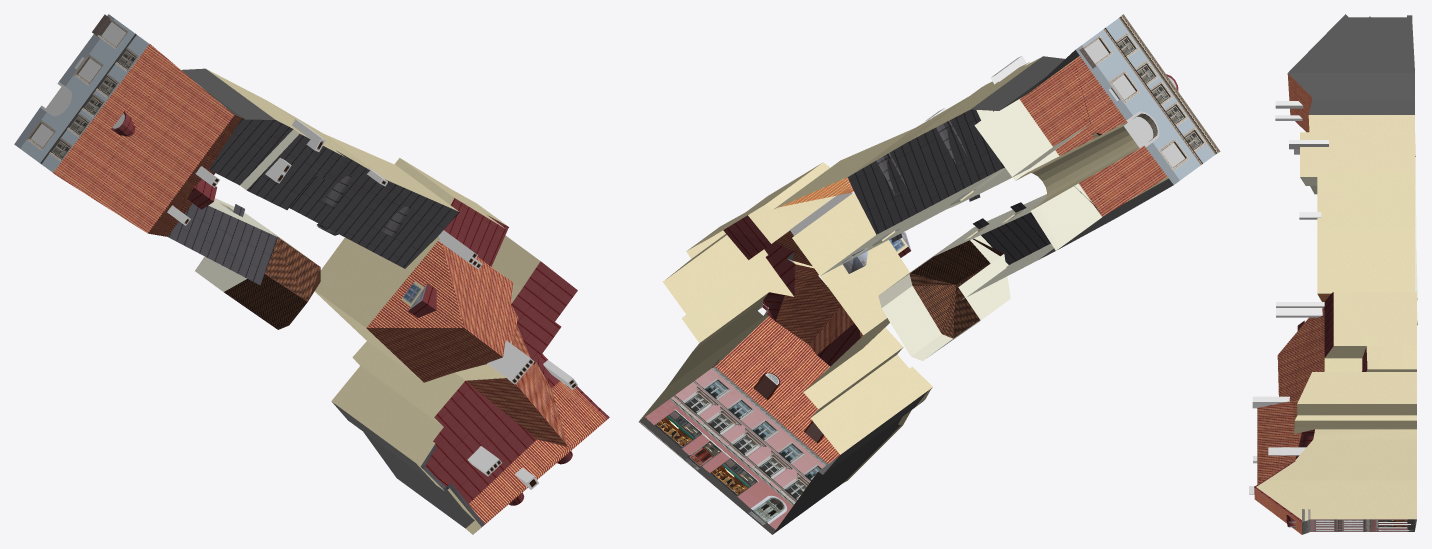
Rendered from Pikk_11_Lai_10.obj.
3 views of the same model, side by side, from view 1: azimuth 30°, elevation 25°; view 2: azimuth 150°, elevation 25°; view 3: azimuth 270°, elevation 25° (orthographic). The views are drawn at different scales.
Parts seen in each view (by area): view 1: Pikk_11_Lai_10; view 2: Pikk_11_Lai_10; view 3: Pikk_11_Lai_10.
Boxes of the visible parts, bbox=[...] form: Pikk_11_Lai_10: bbox=[14, 14, 609, 534]; Pikk_11_Lai_10: bbox=[638, 14, 1220, 534]; Pikk_11_Lai_10: bbox=[1249, 14, 1417, 534].
Bounding box in the file's own units: 55.65 × 55.57 × 20.63.
